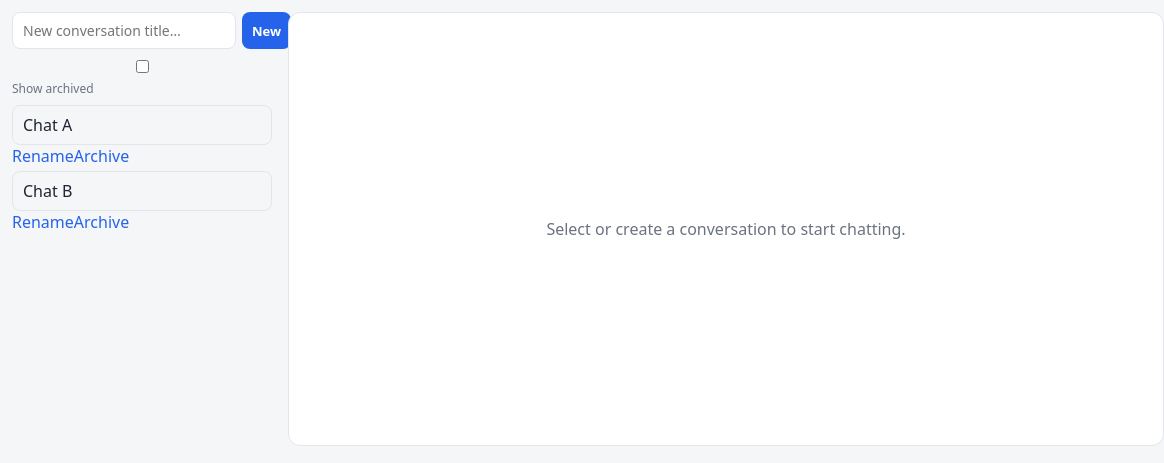
Test case: ChatConsolePage › lists conversations and loads the selected conversation's messages
Check: the button "Chat B" is shown, box [12,171,272,211]
Step 1. Click the button "Chat A" → (48, 125), box [12,105,272,145]
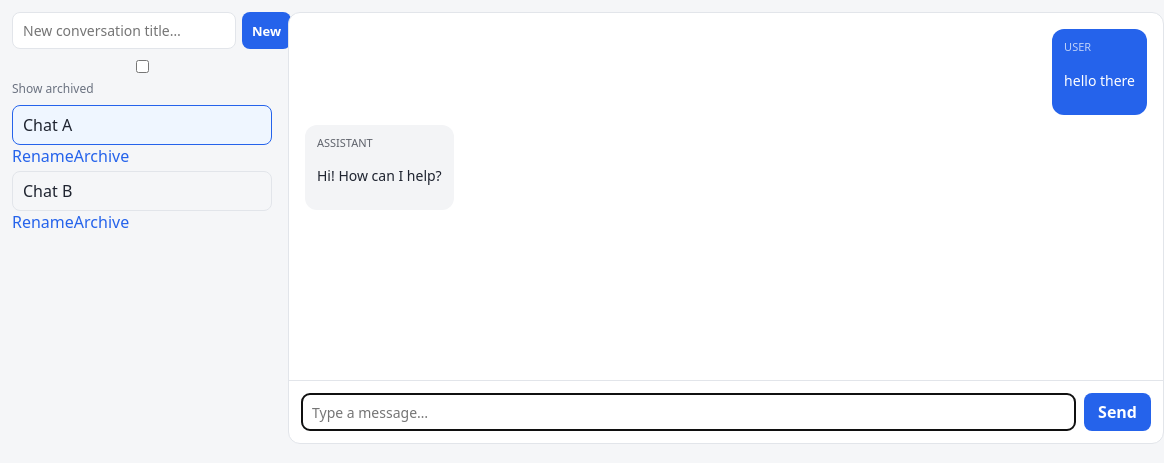
Check: the text "hello there" is shown, box [1064,70,1135,90]
Check: the text "Hi! How can I help?" is shown, box [317,165,442,186]
Check: the text "user" is shown, box [1064,39,1091,54]
